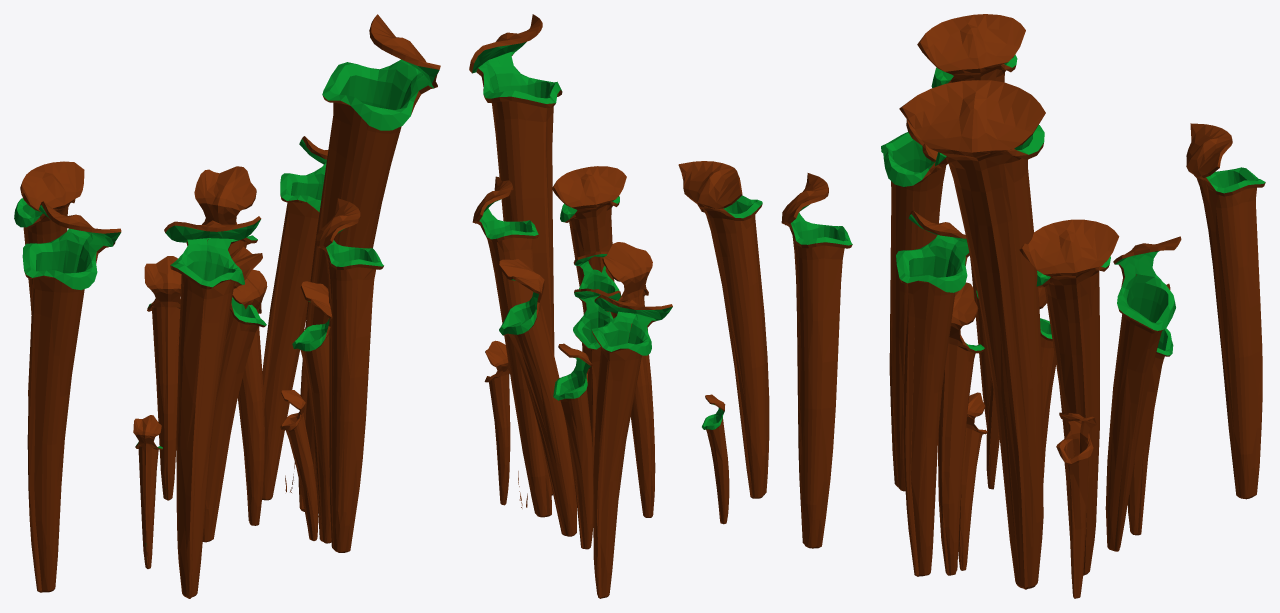
File: ShrubTrumpet04.fbx
3 views of the same model, side by side, from view 1: azimuth 30°, elevation 25°; view 2: azimuth 150°, elevation 25°; view 3: azimuth 270°, elevation 25° (orthographic). The views are drawn at different scales.
Visible parts, largest first — view 1: ShrubTrumpet04; view 2: ShrubTrumpet04; view 3: ShrubTrumpet04.
Part boxes in pixels (x1,y1,x2,y2): ShrubTrumpet04: [14, 14, 440, 598]; ShrubTrumpet04: [469, 14, 852, 598]; ShrubTrumpet04: [881, 14, 1265, 598].
Bounding box in the file's own units: 87.7 × 99.92 × 65.91.
